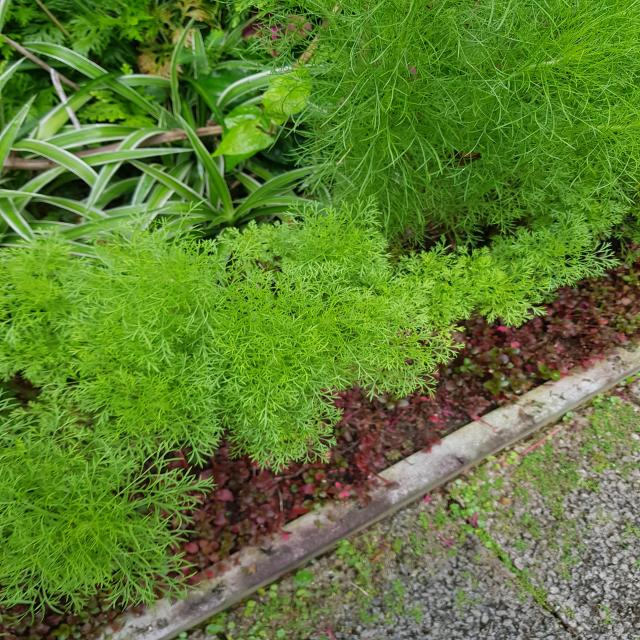Dill: (14, 256, 365, 450), (371, 25, 609, 232), (0, 432, 204, 586)
